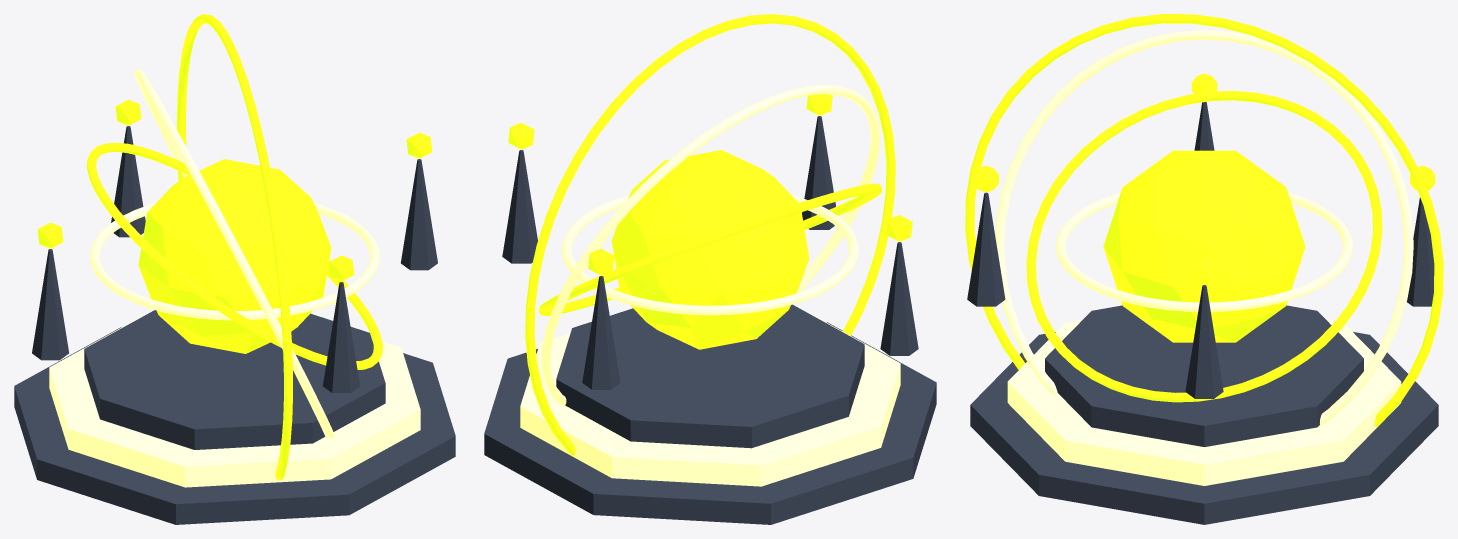
Rendered from gpu-blender-v12.glb.
The picture shows the model from 3 angles, left to right: view 1: azimuth 30°, elevation 25°; view 2: azimuth 150°, elevation 25°; view 3: azimuth 270°, elevation 25°; orthographic projection. The views are drawn at different scales.
Parts seen in each view (by area): view 1: Cylinder.002, SovereignCore_zoth-os, Cylinder, Cylinder.001, Torus.003, Torus.001, Torus.002, Torus, Cone, Cone.002, Cone.003, Cone.001 (+4 smaller); view 2: Cylinder.002, SovereignCore_zoth-os, Cylinder, Cylinder.001, Torus.003, Torus.002, Torus, Torus.001, Cone.001, Cone.002, Cone, Cone.003 (+3 smaller); view 3: SovereignCore_zoth-os, Cylinder.002, Cylinder, Cylinder.001, Torus.001, Torus.003, Torus.002, Torus, Cone.003, Cone, Cone.001, Cone.002 (+2 smaller).
Part boxes in pixels (bbox=[...]): Cylinder.002: bbox=[84, 310, 385, 449]; SovereignCore_zoth-os: bbox=[138, 159, 331, 353]; Cylinder: bbox=[14, 327, 455, 524]; Cylinder.001: bbox=[49, 318, 420, 487]; Torus.003: bbox=[177, 14, 292, 480]; Torus.001: bbox=[87, 142, 382, 369]; Torus.002: bbox=[134, 69, 334, 438]; Torus: bbox=[90, 203, 379, 320]; Cone: bbox=[401, 159, 437, 270]; Cone.002: bbox=[32, 249, 68, 360]; Cone.003: bbox=[323, 282, 359, 392]; Cone.001: bbox=[111, 126, 145, 237]; Cylinder.002: bbox=[556, 304, 864, 448]; SovereignCore_zoth-os: bbox=[611, 150, 809, 349]; Cylinder: bbox=[484, 322, 936, 524]; Cylinder.001: bbox=[520, 313, 900, 486]; Torus.003: bbox=[525, 14, 895, 455]; Torus.002: bbox=[541, 84, 879, 406]; Torus: bbox=[562, 195, 858, 315]; Torus.001: bbox=[539, 183, 881, 315]; Cone.001: bbox=[582, 276, 620, 389]; Cone.002: bbox=[880, 242, 918, 355]; Cone: bbox=[502, 150, 537, 263]; Cone.003: bbox=[802, 116, 835, 229]; SovereignCore_zoth-os: bbox=[1103, 150, 1305, 342]; Cylinder.002: bbox=[1045, 305, 1363, 446]; Cylinder: bbox=[970, 332, 1438, 524]; Cylinder.001: bbox=[1007, 320, 1401, 485]; Torus.001: bbox=[1026, 91, 1382, 402]; Torus.003: bbox=[965, 14, 1443, 427]; Torus.002: bbox=[995, 30, 1413, 426]; Torus: bbox=[1056, 192, 1352, 311]; Cone.003: bbox=[967, 192, 1005, 306]; Cone: bbox=[1185, 285, 1223, 398]; Cone.001: bbox=[1407, 197, 1434, 306]; Cone.002: bbox=[1194, 102, 1214, 150].
Size of the model in its own units: 4.41 by 4.7 by 4.49.
